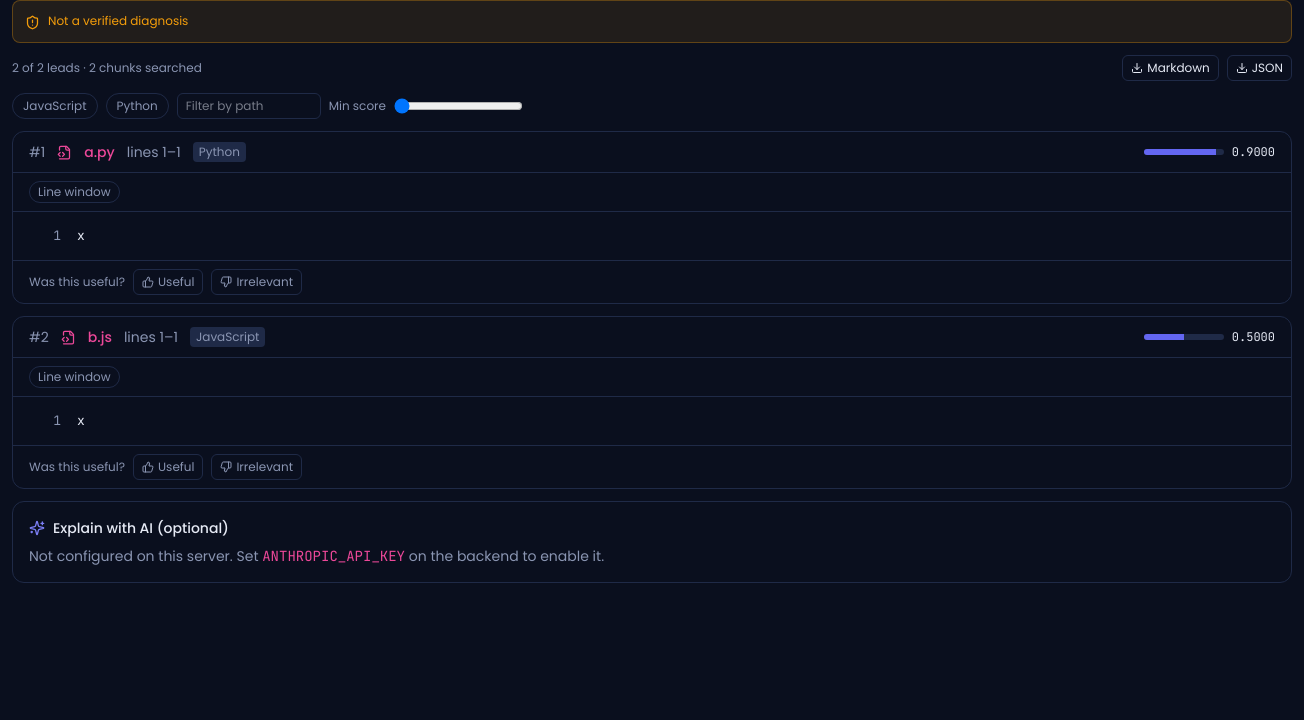
TurnResults › filters by language and path
Expected: the text "2 of 2 leads" is shown, [12, 60, 202, 76]
Click the button "JavaScript" at (55, 106), box [12, 93, 98, 119]
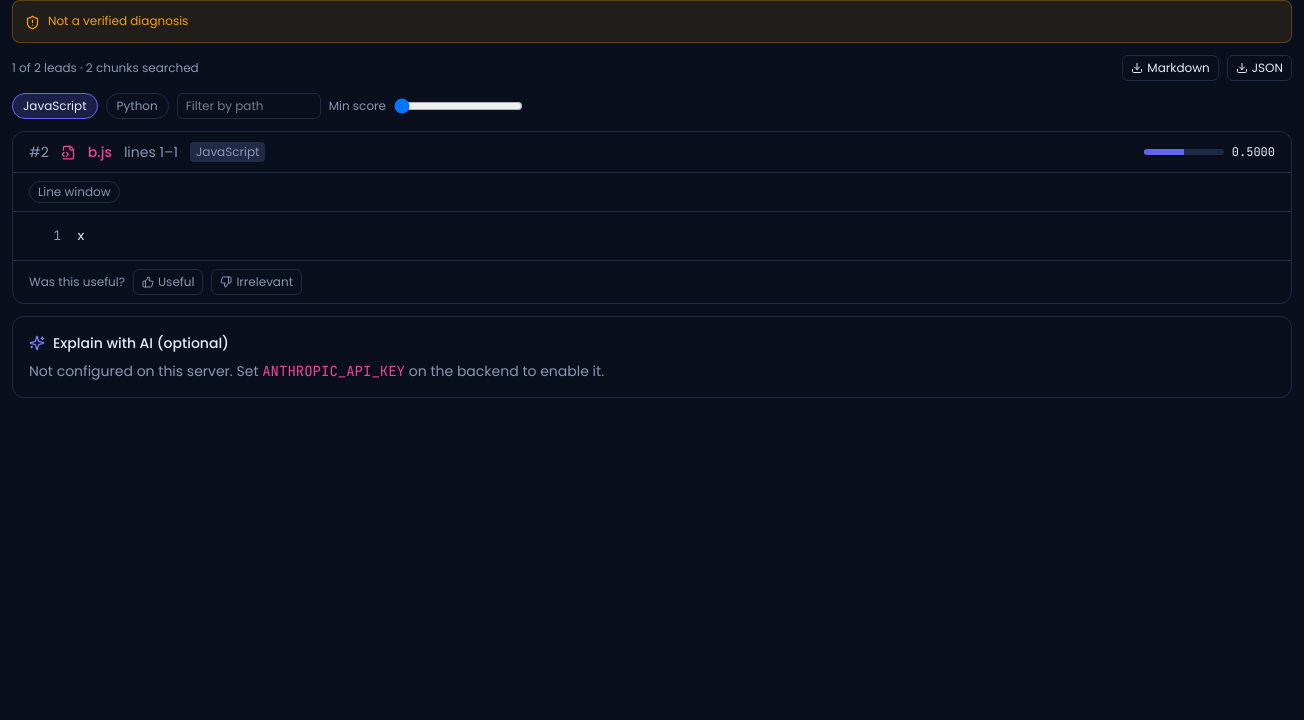
Now the text "1 of 2 leads" is shown, box [12, 60, 199, 76]
Click the button "JavaScript" at (55, 106), box [12, 93, 98, 119]
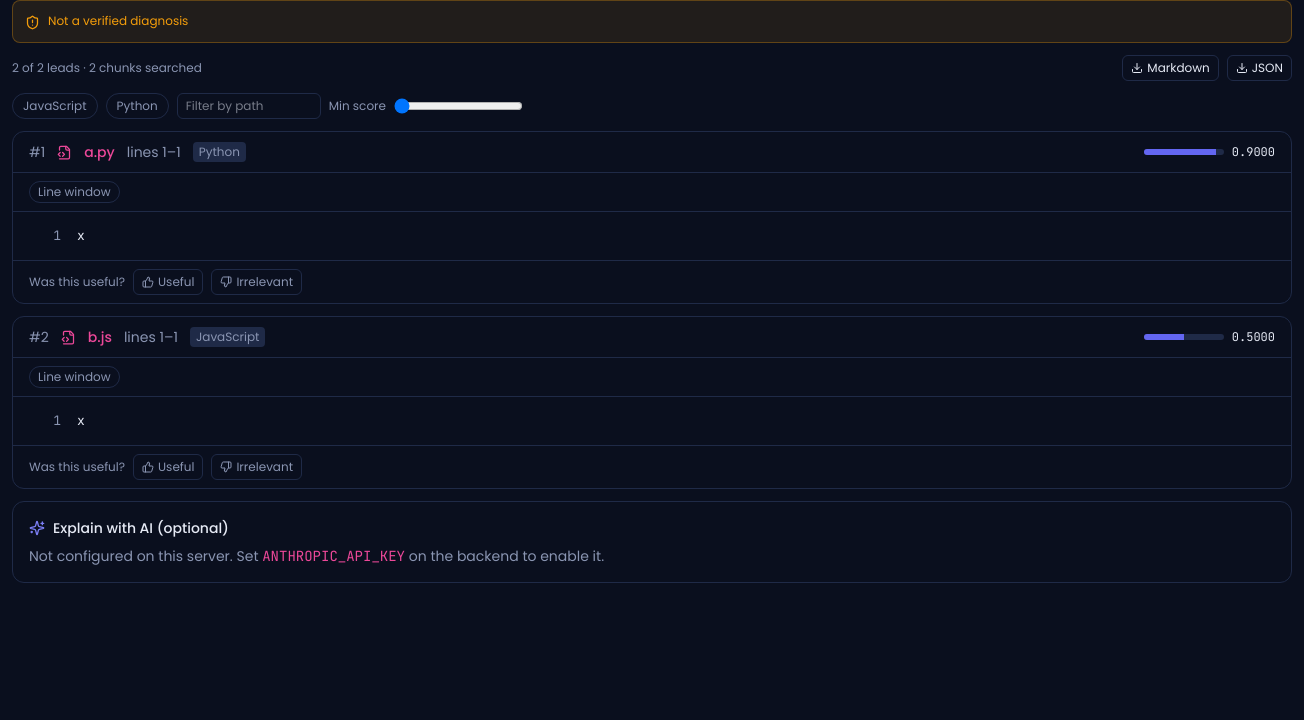
Type "a.py" into the field labelled "Filter by path" at (249, 106), box [177, 93, 321, 119]
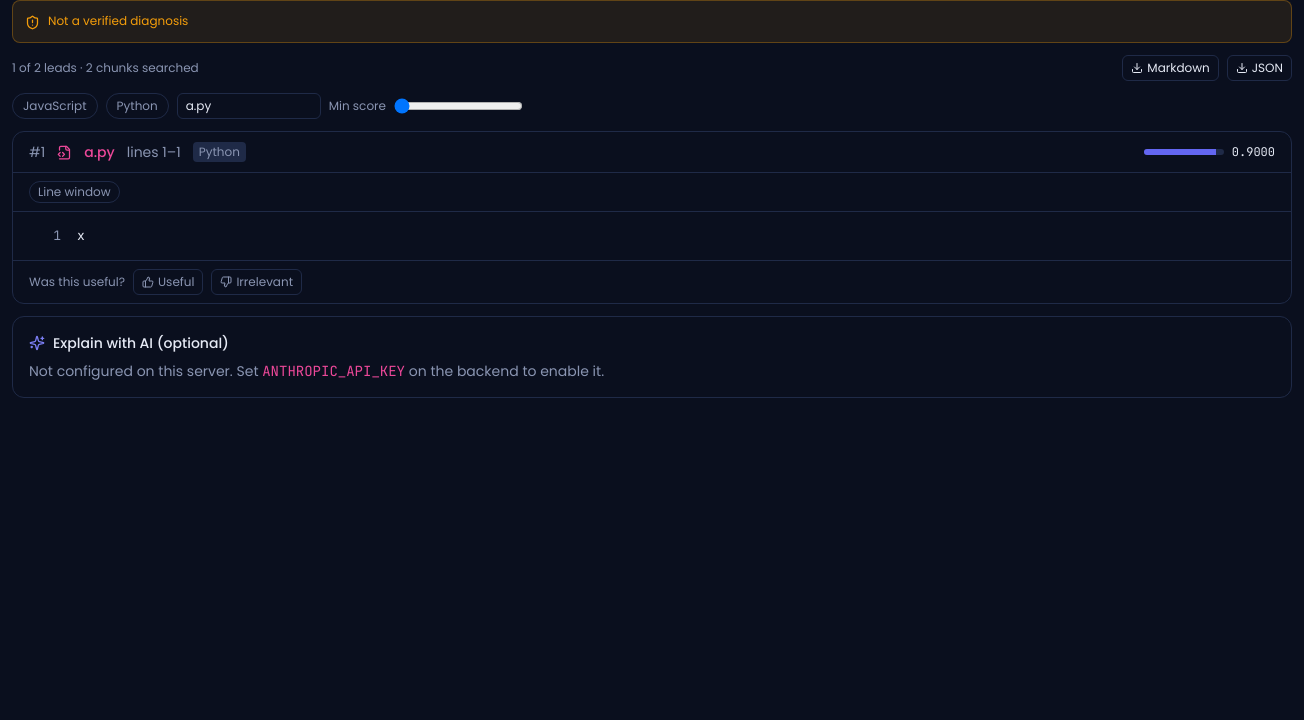
Now the text "1 of 2 leads" is shown, box [12, 60, 199, 76]
